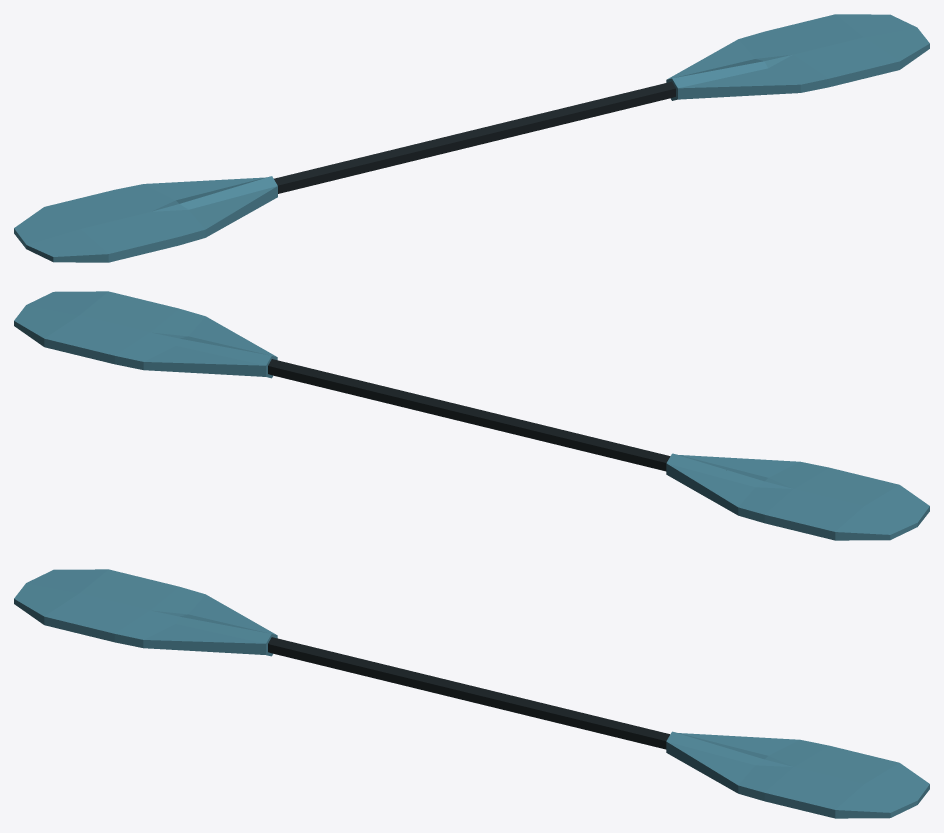
The model's file is Oar_02.fbx.
3 renders of one model, top to bottom at view 1: azimuth 30°, elevation 25°; view 2: azimuth 150°, elevation 25°; view 3: azimuth 330°, elevation 25°, orthographic.
Visible parts, largest first — view 1: Oar_02; view 2: Oar_02; view 3: Oar_02.
Part boxes in pixels (left/top/right/bottom): Oar_02: left=14, top=14, right=929, bottom=262; Oar_02: left=14, top=291, right=929, bottom=540; Oar_02: left=14, top=569, right=929, bottom=818.
Bounding box in the file's own units: 182 × 4.42 × 22.98.
